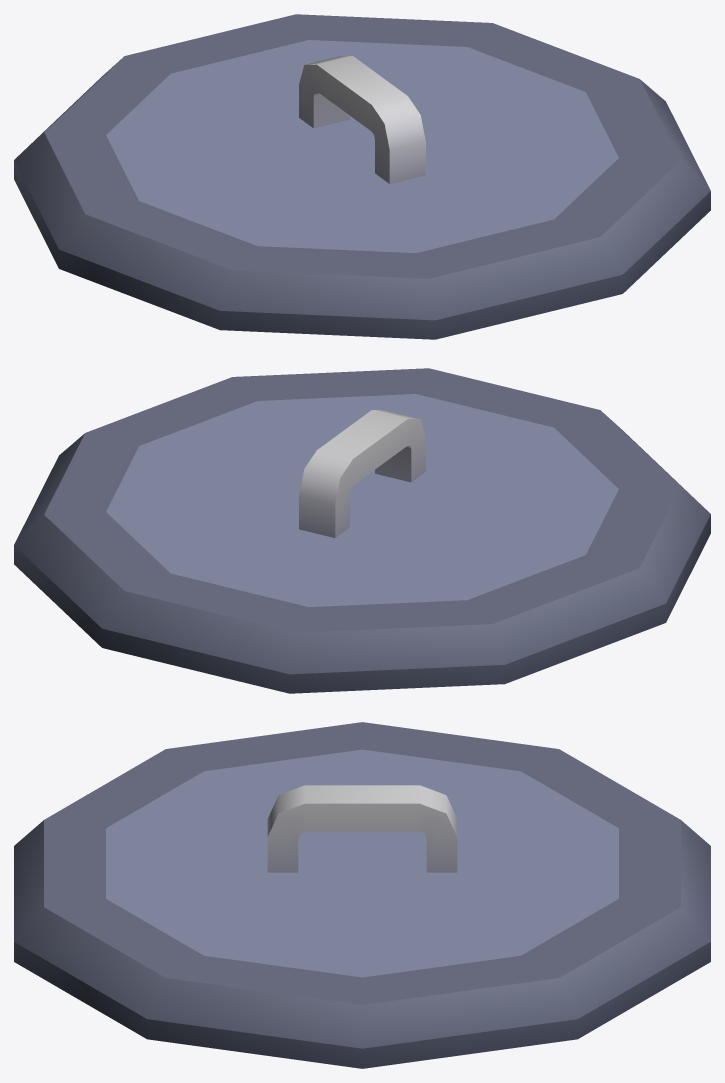
File: pot-lid.glb
3 views of the same model, one above another, from view 1: azimuth 30°, elevation 25°; view 2: azimuth 150°, elevation 25°; view 3: azimuth 270°, elevation 25° (orthographic). The views are drawn at different scales.
Parts seen in each view (by area): view 1: pot-lid; view 2: pot-lid; view 3: pot-lid.
Boxes of the visible parts, left/top/right/bottom form: pot-lid: left=14, top=14, right=710, bottom=339; pot-lid: left=14, top=368, right=710, bottom=693; pot-lid: left=14, top=722, right=710, bottom=1068.
Bounding box in the file's own units: 0.6574 × 0.1184 × 0.6253.
